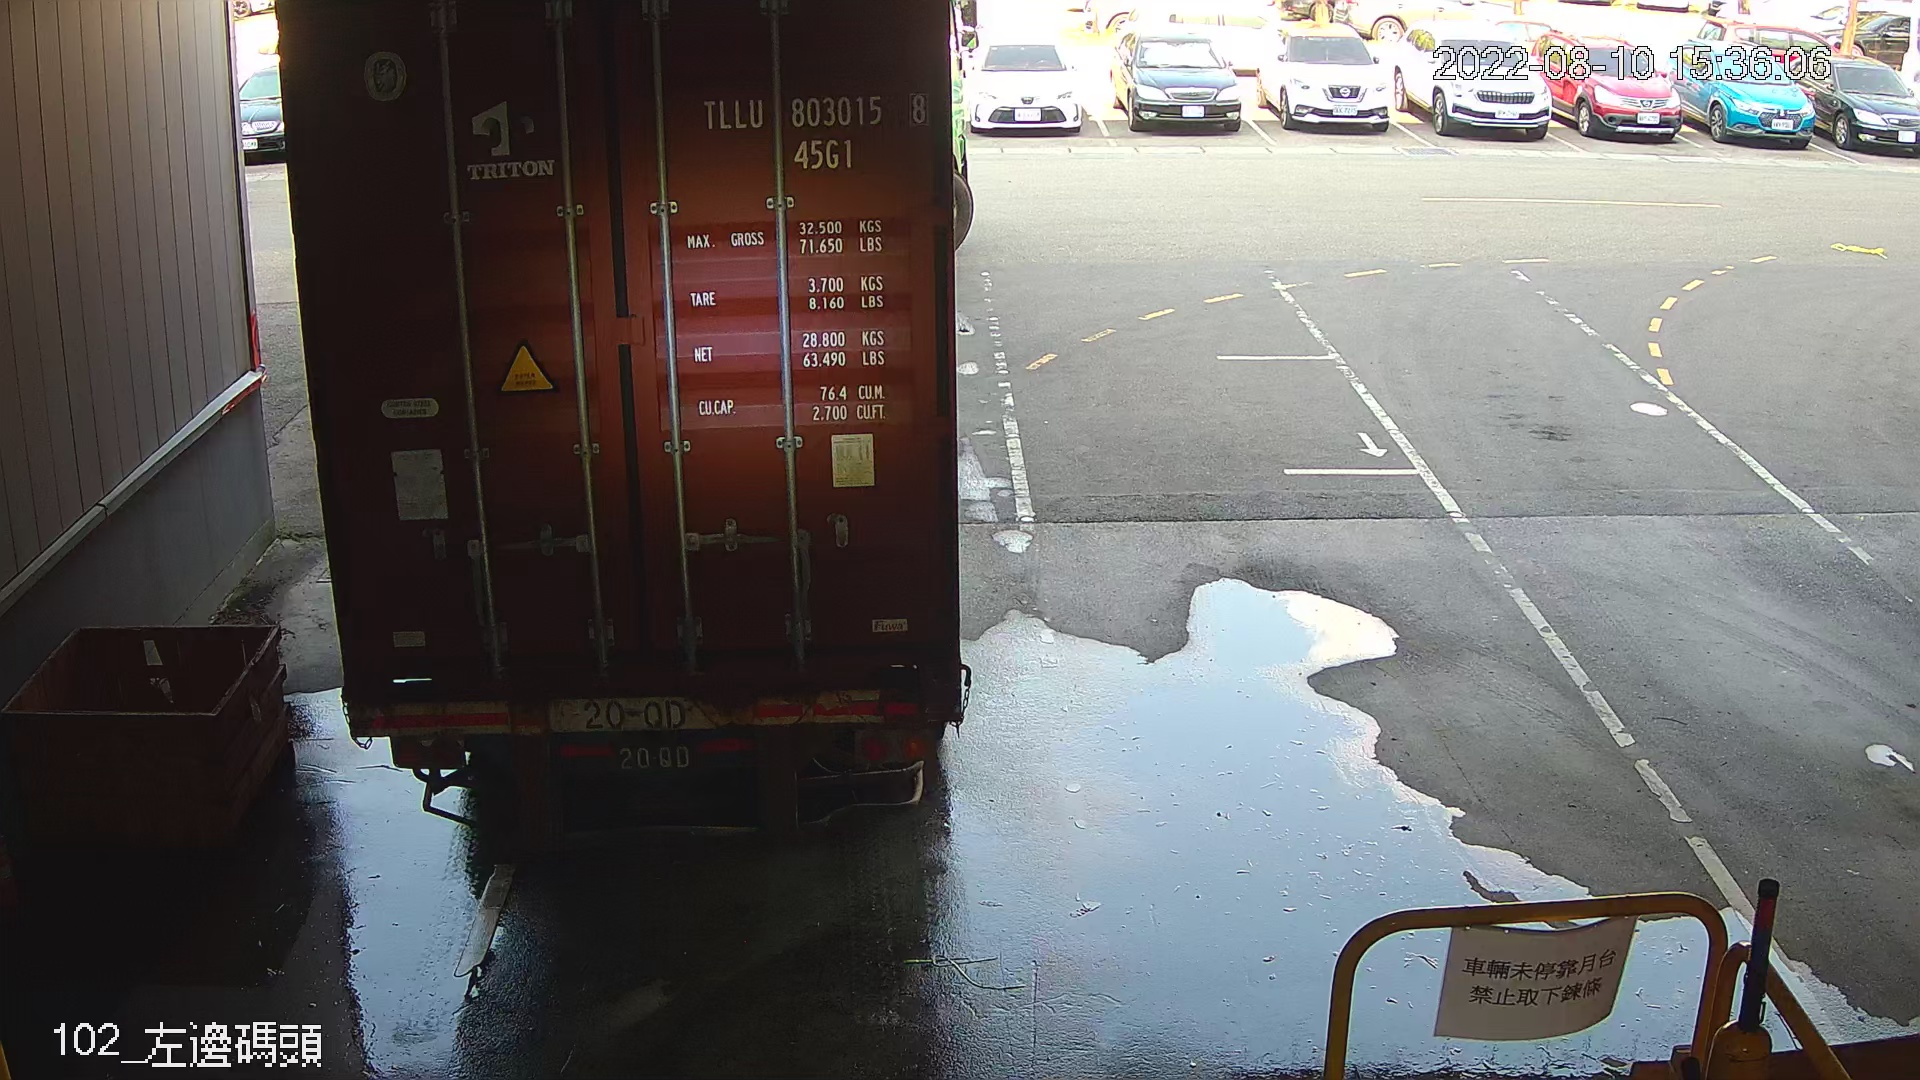container: (692, 82, 942, 179)
